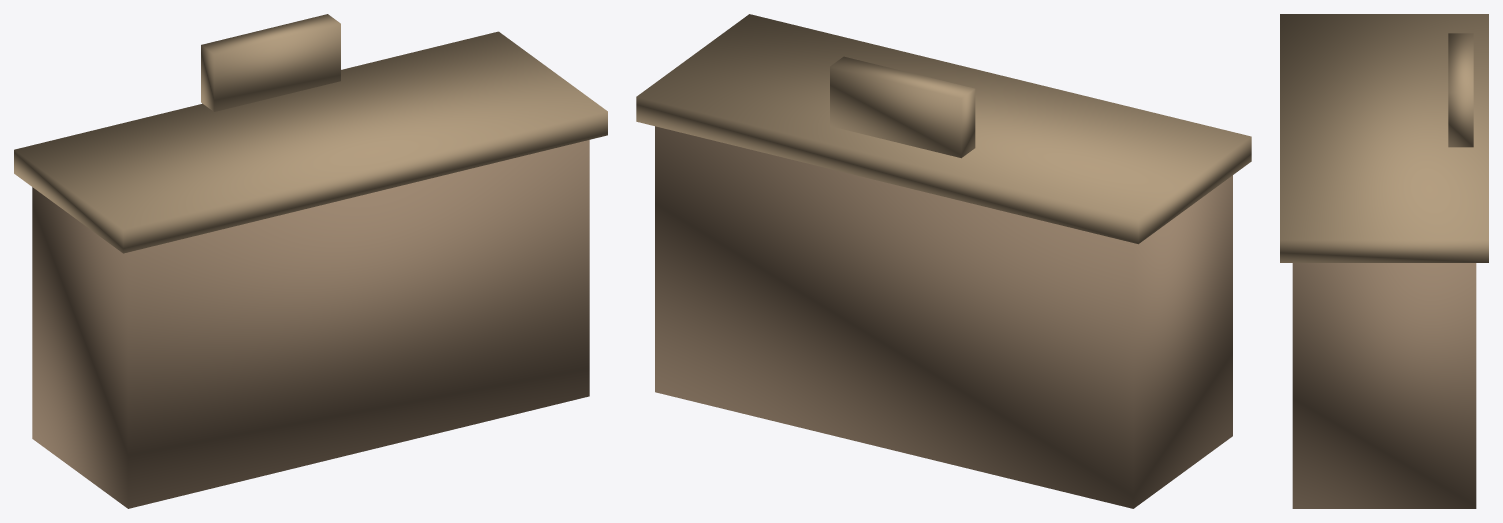
The model's file is judge_bench__reinforced.glb.
The picture shows the model from 3 angles, left to right: view 1: azimuth 30°, elevation 25°; view 2: azimuth 150°, elevation 25°; view 3: azimuth 270°, elevation 25°; orthographic projection. The views are drawn at different scales.
Parts seen in each view (by area): view 1: world; view 2: world; view 3: world.
Part boxes in pixels (box(x1,y1,x2,y2)): world: box(14, 14, 607, 508); world: box(636, 14, 1251, 508); world: box(1280, 14, 1488, 508).
Size of the model in its own units: 2.16 by 1.51 by 0.8446.
